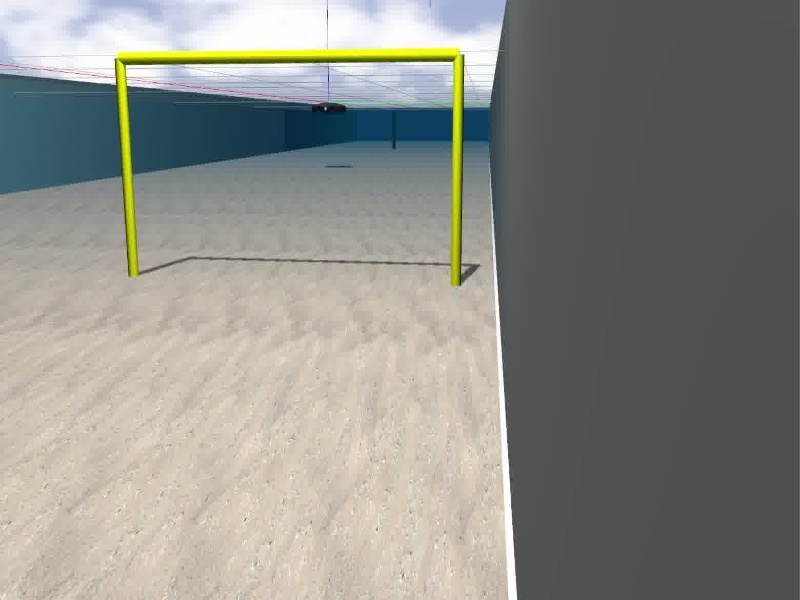gate: (112, 51, 465, 285)
